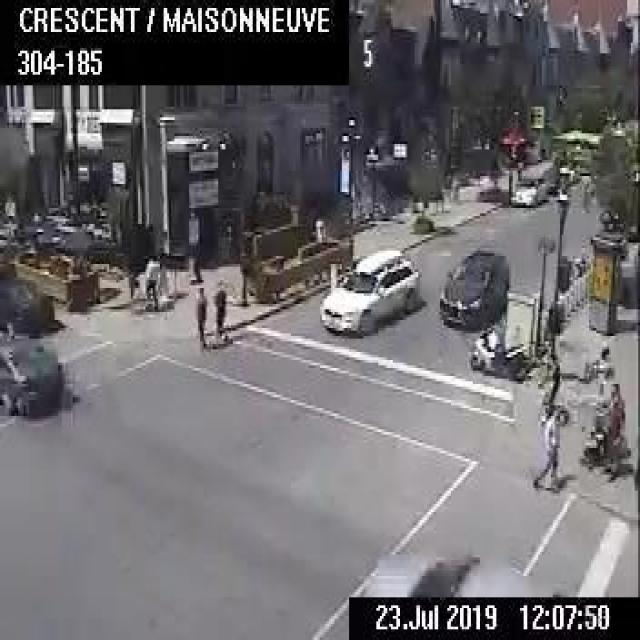pedestrian: (582, 394, 623, 480), (531, 397, 565, 496), (590, 344, 612, 404), (211, 283, 231, 344), (491, 309, 507, 376), (141, 249, 159, 308), (194, 282, 206, 345), (606, 380, 621, 422)
vehicle: (358, 541, 558, 595), (317, 246, 420, 333), (438, 245, 508, 323), (0, 334, 64, 414), (468, 324, 528, 379), (0, 275, 53, 333), (509, 173, 544, 203)
